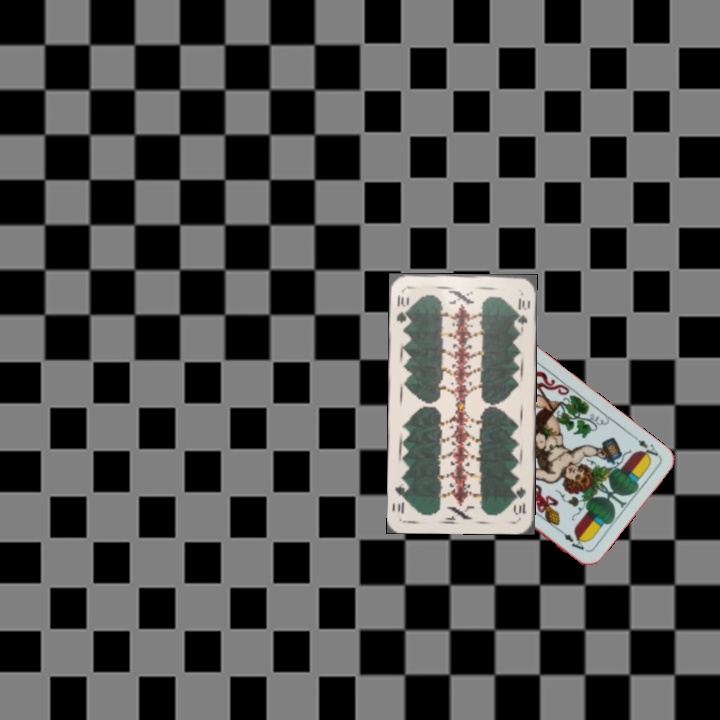EA: (626, 430, 661, 462)
G10: (392, 291, 411, 328), (511, 483, 529, 517)
